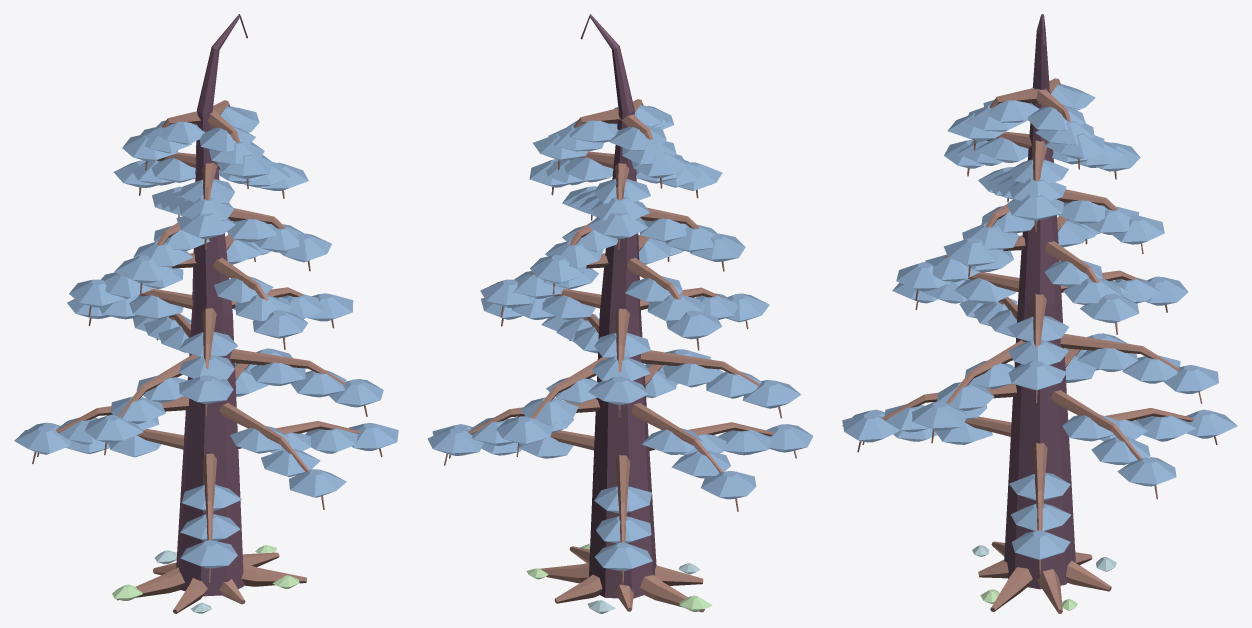
Rendered from lagoon_tree_western_hemlock.glb.
The picture shows the model from 3 angles, left to right: view 1: azimuth 30°, elevation 25°; view 2: azimuth 150°, elevation 25°; view 3: azimuth 270°, elevation 25°; orthographic projection. The views are drawn at different scales.
Parts seen in each view (by area): view 1: lagoon_tree_western_hemlock.001; view 2: lagoon_tree_western_hemlock.001; view 3: lagoon_tree_western_hemlock.001.
Part boxes in pixels (bbox=[...]): lagoon_tree_western_hemlock.001: bbox=[14, 14, 398, 613]; lagoon_tree_western_hemlock.001: bbox=[427, 14, 813, 613]; lagoon_tree_western_hemlock.001: bbox=[842, 14, 1237, 613].
Size of the model in its own units: 6.47 by 9.98 by 6.19.
